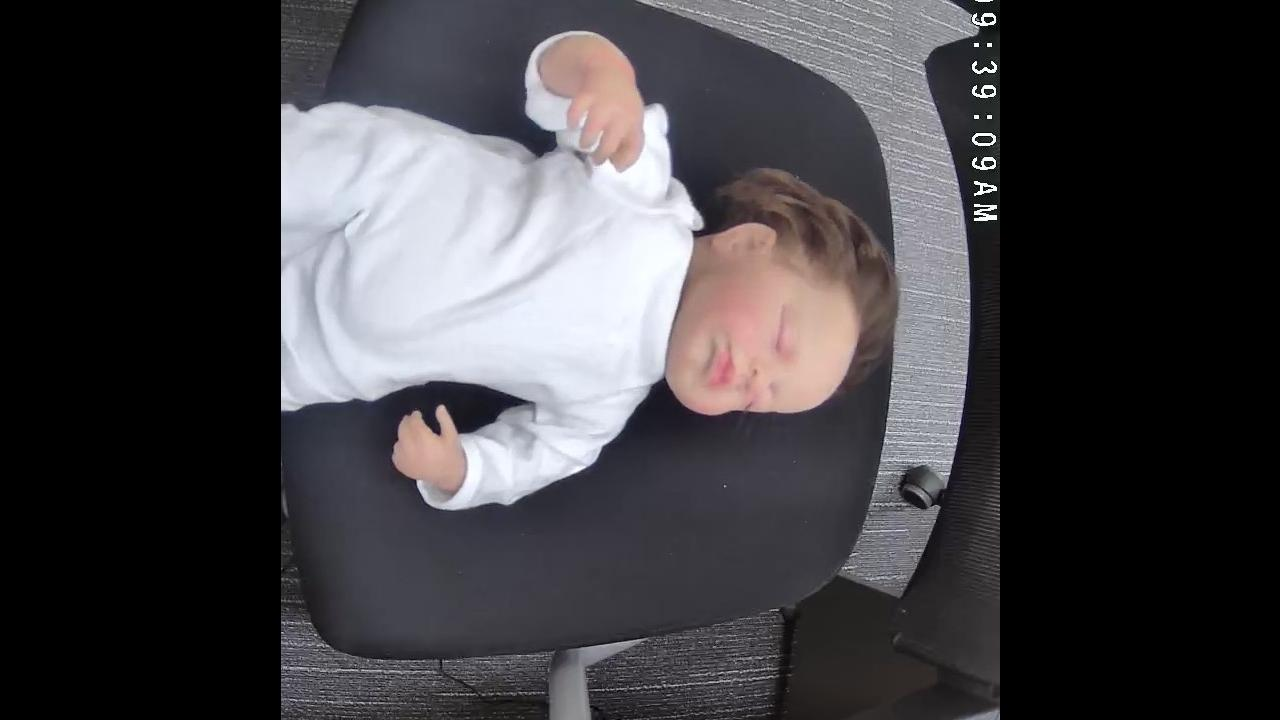hand: (536, 39, 646, 170), (388, 400, 464, 492)
